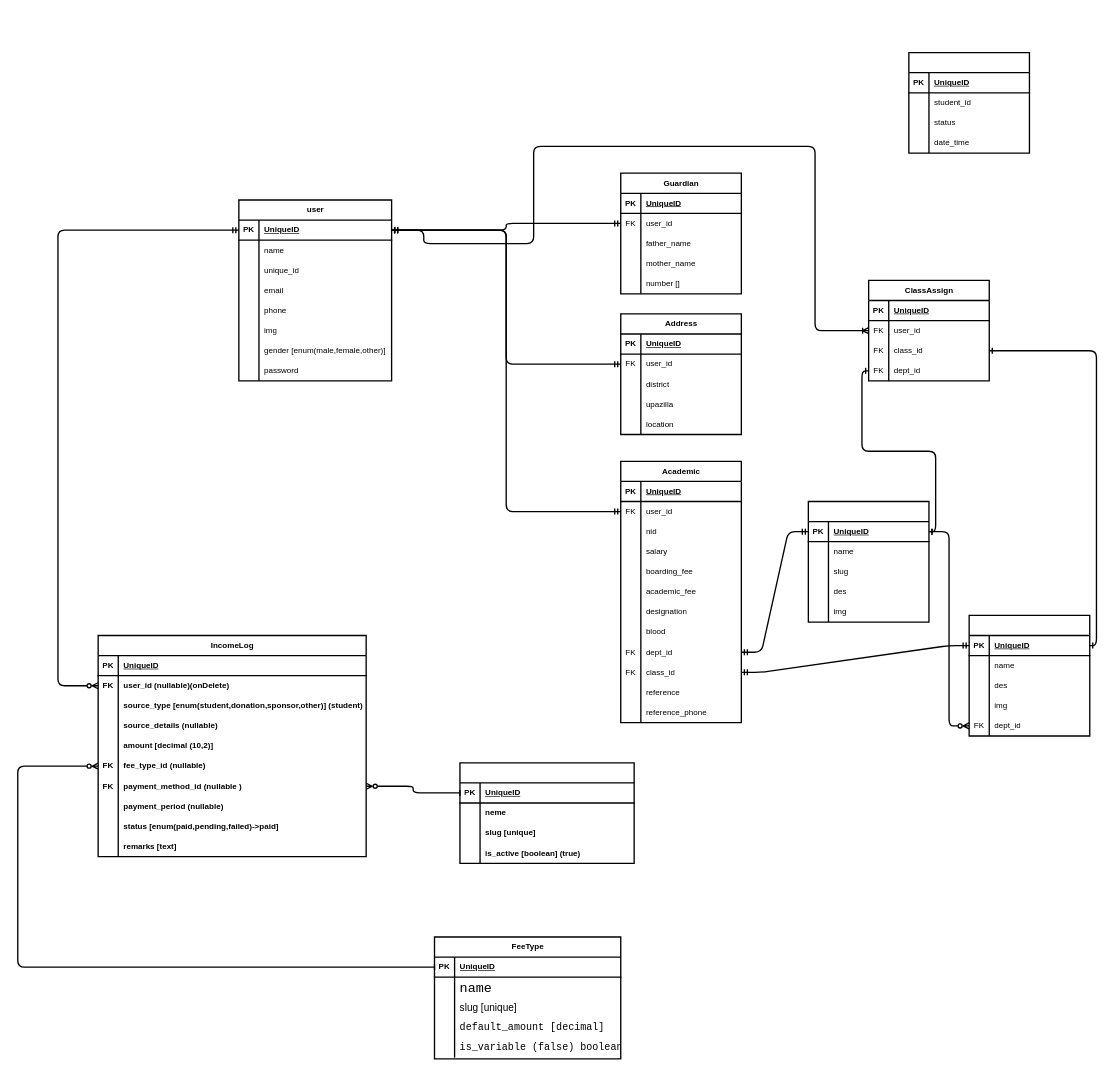
Some shapes in this 1114 by 1071 pixel diagram are drawn without their labels. Each missing label, with the box of its shape:
attendance: (908, 52, 1030, 153)
Class: (968, 614, 1090, 736)
Department: (807, 500, 929, 622)
PaymentMethod: (459, 762, 634, 864)
